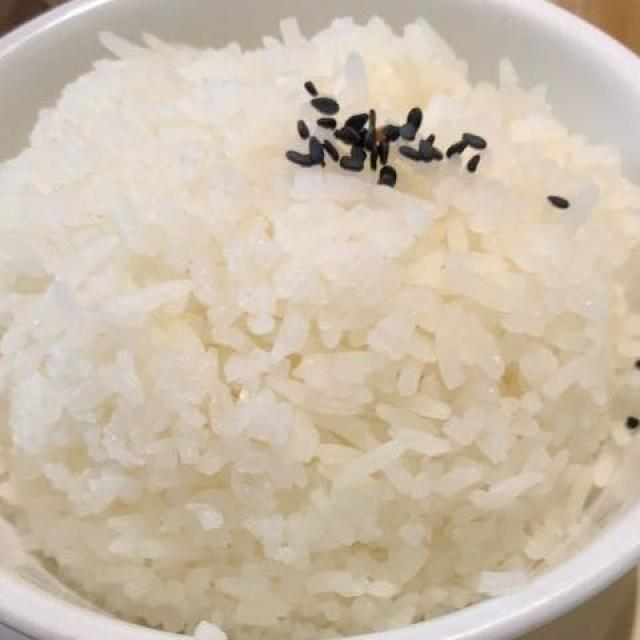rice: (10, 35, 634, 629)
